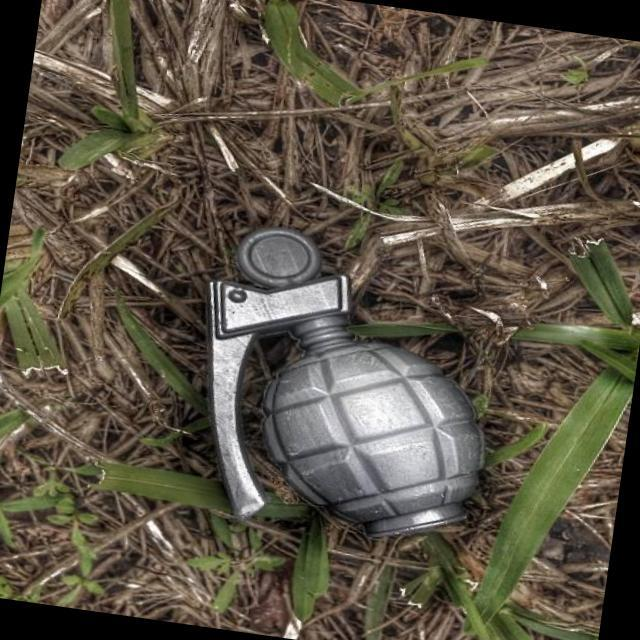grenade: (178, 221, 524, 554)
